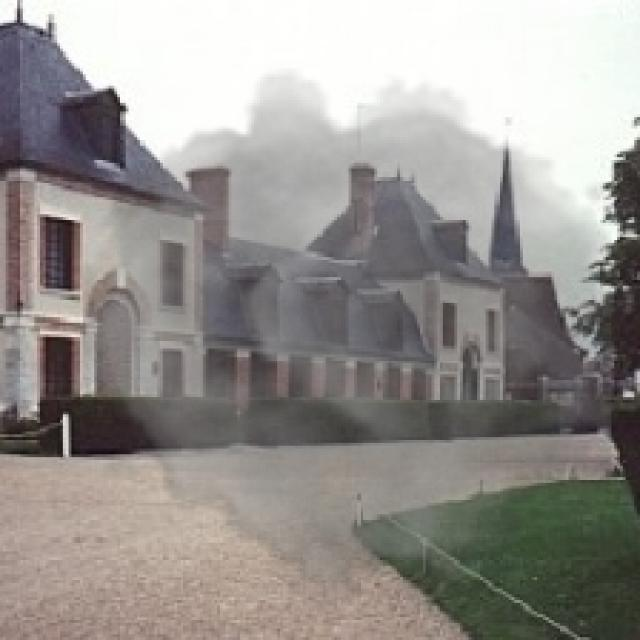Smoke: (83, 68, 612, 614)
